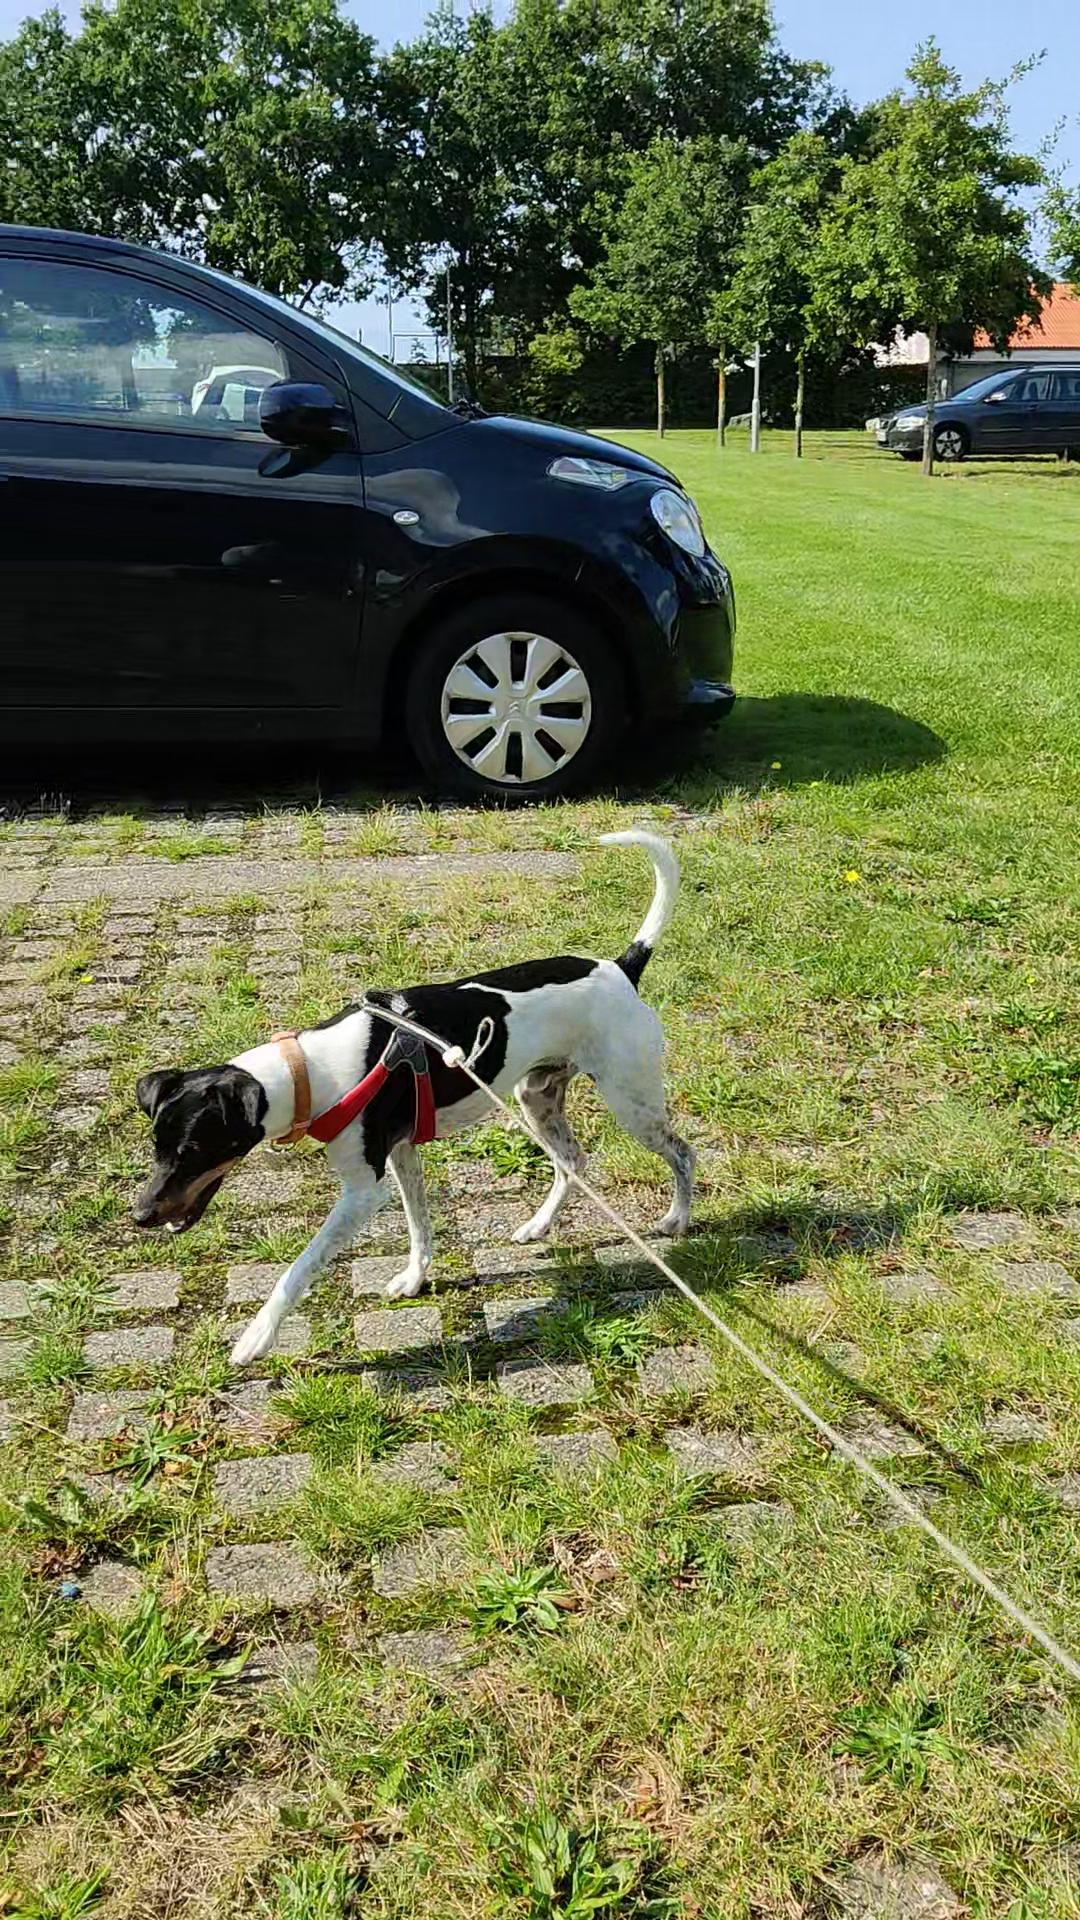Dog: (123, 824, 698, 1374)
